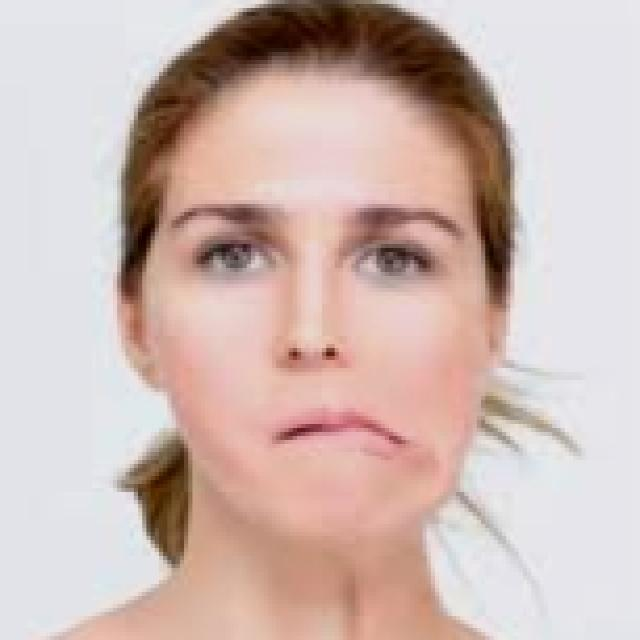stroke_face: (148, 0, 507, 545)
